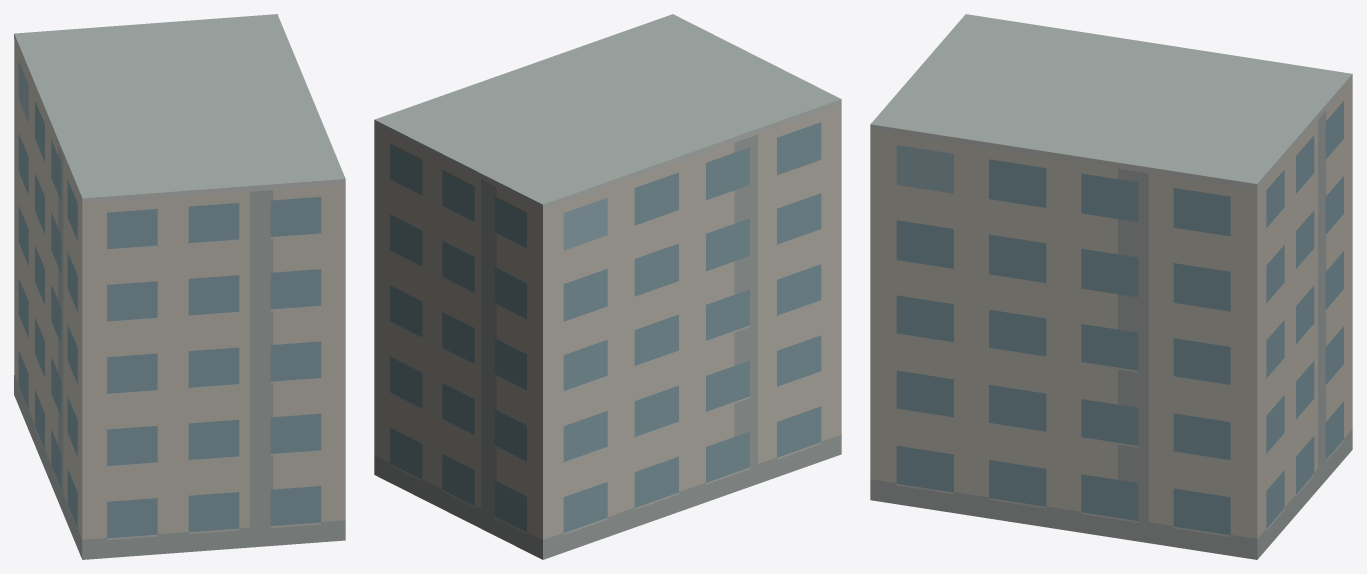
The model's file is residential-fb1ce1d9-015e-4049-a045-57daf0515f32.glb.
3 views of the same model, side by side, from view 1: azimuth 30°, elevation 25°; view 2: azimuth 150°, elevation 25°; view 3: azimuth 270°, elevation 25° (orthographic). The views are drawn at different scales.
Visible parts, largest first — view 1: residential-fb1ce1d9-015e-4049-a045-57daf0515f32.tmp; view 2: residential-fb1ce1d9-015e-4049-a045-57daf0515f32.tmp; view 3: residential-fb1ce1d9-015e-4049-a045-57daf0515f32.tmp.
Part boxes in pixels (<box>): residential-fb1ce1d9-015e-4049-a045-57daf0515f32.tmp: <box>14,14,345,559</box>; residential-fb1ce1d9-015e-4049-a045-57daf0515f32.tmp: <box>374,14,841,559</box>; residential-fb1ce1d9-015e-4049-a045-57daf0515f32.tmp: <box>870,14,1352,559</box>.
Size of the model in its own units: 14.81 by 15.25 by 17.74.
